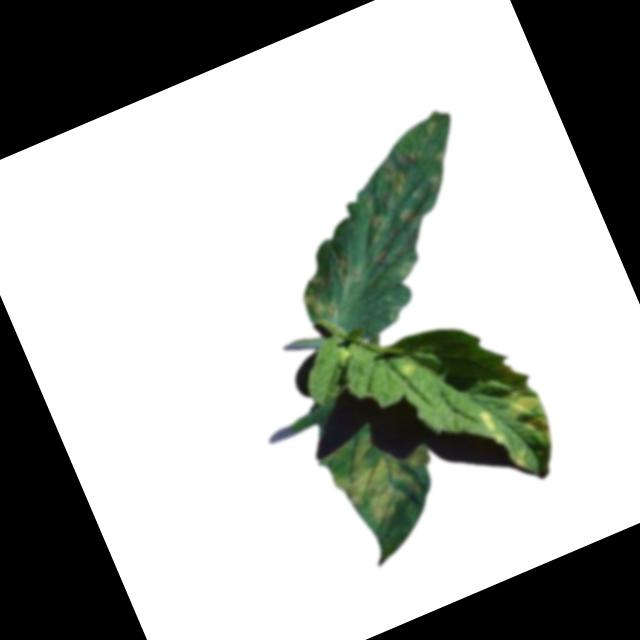Leaf_Mold: (319, 415, 449, 538), (497, 386, 559, 458), (295, 278, 344, 331), (354, 196, 394, 247), (373, 154, 412, 204), (325, 250, 366, 296), (474, 404, 505, 448), (397, 357, 421, 383), (396, 203, 420, 229)
